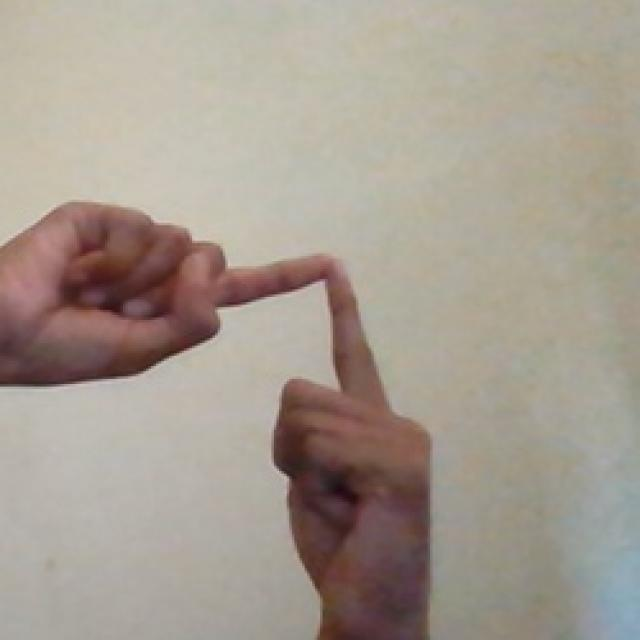Alphabet-E: (1, 202, 433, 639)
